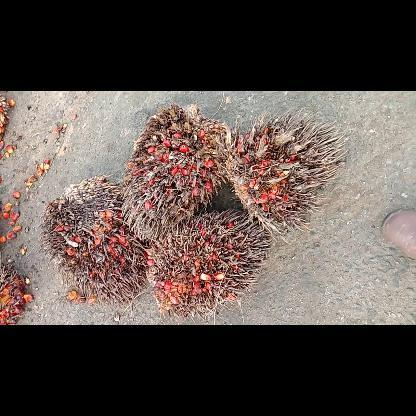Terlalu masak: (222, 107, 350, 244), (117, 101, 235, 249), (144, 204, 274, 322), (39, 175, 153, 309)
